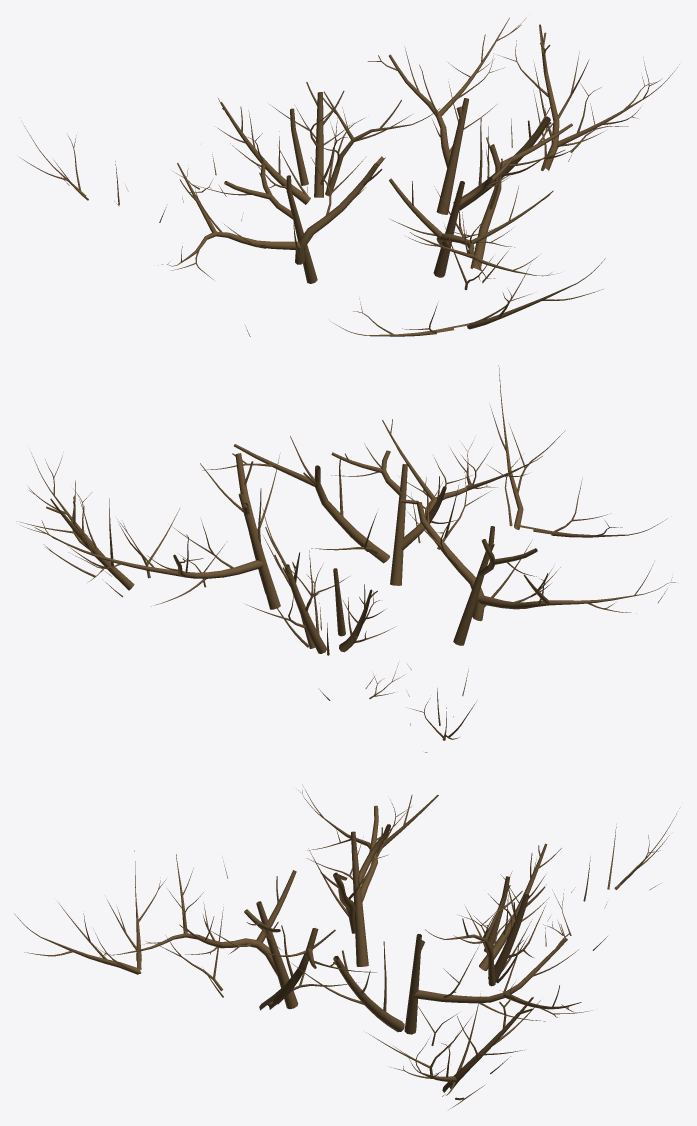
File: Tree_Trunk_Upper.001.fbx
The picture shows the model from 3 angles, top to bottom: view 1: azimuth 30°, elevation 25°; view 2: azimuth 150°, elevation 25°; view 3: azimuth 270°, elevation 25°; orthographic projection. The views are drawn at different scales.
Visible parts, largest first — view 1: Trunk_Upper.001; view 2: Trunk_Upper.001; view 3: Trunk_Upper.001.
Boxes of the visible parts, left/top/right/bottom form: Trunk_Upper.001: left=19, top=17, right=679, bottom=336; Trunk_Upper.001: left=16, top=365, right=675, bottom=752; Trunk_Upper.001: left=14, top=784, right=679, bottom=1109.
Bounding box in the file's own units: 18.36 × 3.73 × 17.53.
